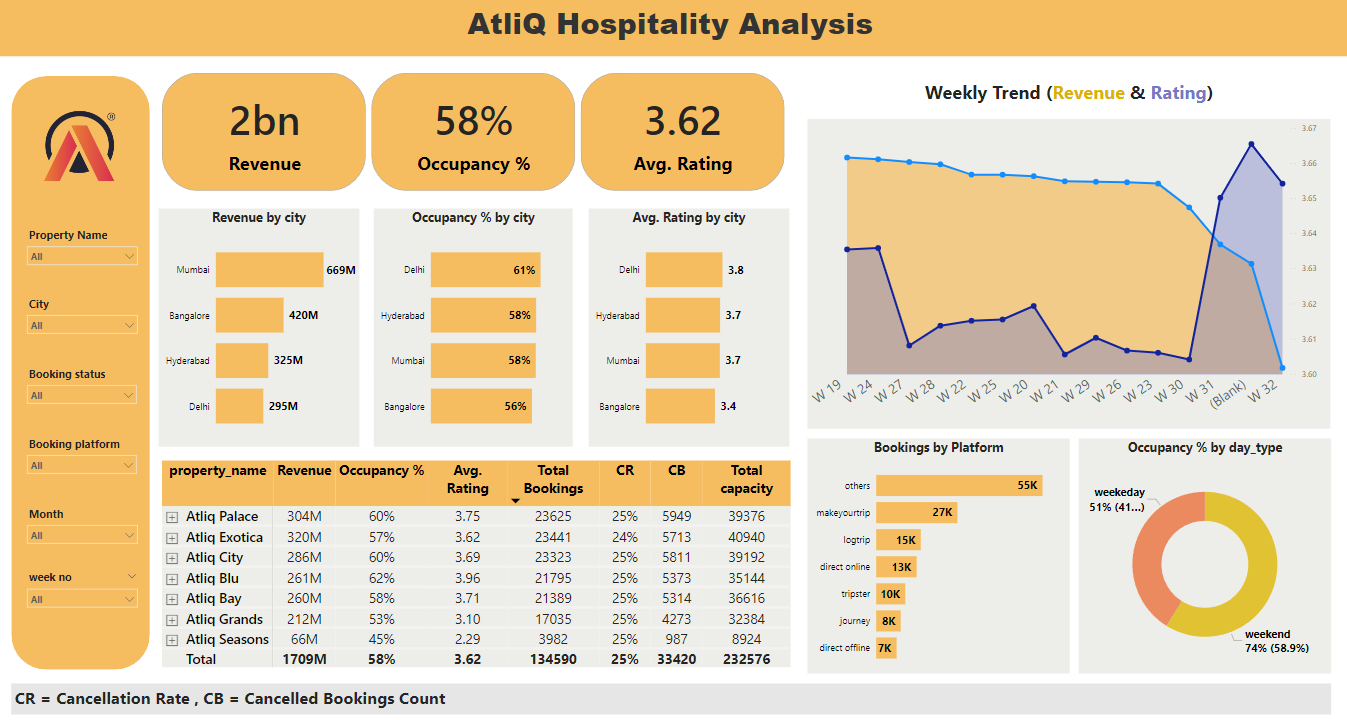

The page's visual inventory and layout, read from the dashboard file:
{"tool":"powerbi","page":{"name":"Page 1","canvas":[1980,1080],"ordinal":0},"visuals":[{"type":"cardVisual","fields":{"Data":["fact_bookings.Revenue","fact_bookings.Occupancy %","fact_bookings.Avg. Rating"]},"box":[233,103.6,924.7,223.8],"z":0},{"type":"barChart","fields":{"Y":["fact_bookings.Revenue"],"Category":["dim_hotels.city"]},"box":[233,327.4,294.1,349.5],"z":1000},{"type":"barChart","fields":{"Y":["fact_bookings.Occupancy %"],"Category":["dim_hotels.city"]},"box":[549.3,327.4,292.2,349.5],"z":2000},{"type":"barChart","fields":{"Y":["fact_bookings.Avg. Rating"],"Category":["dim_hotels.city"]},"box":[863.7,327.4,294.1,349.5],"z":3000},{"type":"pivotTable","fields":{"Rows":["dim_hotels.property_name","dim_hotels.city"],"Values":["fact_bookings.Revenue","fact_bookings.Occupancy %","fact_bookings.Avg. Rating","fact_bookings.Total Bookings","fact_bookings.CR","fact_bookings.Total Cancelled bookings","fact_aggregated_bookings.Total capacity"]},"box":[233,691.7,952.5,316.3],"z":4000},{"type":"areaChart","title":"Weekly Trend (Revenue & Rating)","fields":{"Y":["fact_bookings.Revenue"],"Y2":["fact_bookings.Avg. Rating"],"Category":["dim_date.week no"]},"box":[1185.5,194.2,767.5,455],"z":5000},{"type":"donutChart","fields":{"Category":["dim_date.day_type"],"Y":["fact_bookings.Occupancy %"]},"box":[1583,664,370.5,344.8],"z":6000},{"type":"barChart","title":"Bookings by Platform","fields":{"Category":["fact_bookings.booking_platform"],"Y":["fact_bookings.Total Bookings"]},"box":[1184.9,664,385.2,344.8],"z":7000},{"type":"textbox","box":[1185.5,131.3,767.5,62.9],"z":8000},{"type":"textbox","box":[0,18.5,1980.8,85.1],"z":9000},{"type":"shape","box":[16.6,131.3,203.4,871.1],"z":10000},{"type":"slicer","fields":{"Values":["dim_hotels.property_name"]},"box":[29.6,347.7,183.1,74],"z":11000},{"type":"slicer","fields":{"Values":["dim_hotels.city"]},"box":[29.6,449.4,183.1,72.1],"z":12000},{"type":"slicer","fields":{"Values":["fact_bookings.booking_status"]},"box":[29.6,553,181.2,77.7],"z":13000},{"type":"slicer","fields":{"Values":["fact_bookings.booking_platform"]},"box":[29.6,654.7,181.2,79.5],"z":14000},{"type":"slicer","fields":{"Values":["dim_date.date.Variation.Date Hierarchy.Month"]},"box":[29.6,758.3,183.1,77.7],"z":15000},{"type":"slicer","fields":{"Values":["dim_date.week no"]},"box":[29.6,850.7,183.1,70.3],"z":16000},{"type":"image","box":[51.8,175.7,133.2,116.5],"z":17000},{"type":"textbox","box":[16.5,1023.5,1937,45.9],"z":17001}]}

Visuals, with their boxes in screenshot pixels (x1, y1, x2, y2), scaled from the page's 1980x1080 canvas onto the 1347x720 screenshot:
cardVisual - fact_bookings.Revenue x fact_bookings.Occupancy %: BBox(159, 69, 788, 218)
barChart - fact_bookings.Revenue x dim_hotels.city: BBox(159, 218, 359, 451)
barChart - fact_bookings.Occupancy % x dim_hotels.city: BBox(374, 218, 572, 451)
barChart - fact_bookings.Avg. Rating x dim_hotels.city: BBox(588, 218, 788, 451)
pivotTable - dim_hotels.property_name x dim_hotels.city: BBox(159, 461, 806, 672)
"Weekly Trend (Revenue & Rating)" areaChart: BBox(806, 129, 1329, 433)
donutChart - dim_date.day_type x fact_bookings.Occupancy %: BBox(1077, 443, 1329, 673)
"Bookings by Platform" barChart: BBox(806, 443, 1068, 673)
textbox: BBox(806, 88, 1329, 129)
textbox: BBox(0, 12, 1346, 69)
shape: BBox(11, 88, 150, 668)
slicer - dim_hotels.property_name: BBox(20, 232, 145, 281)
slicer - dim_hotels.city: BBox(20, 300, 145, 348)
slicer - fact_bookings.booking_status: BBox(20, 369, 143, 420)
slicer - fact_bookings.booking_platform: BBox(20, 436, 143, 489)
slicer - dim_date.date.Variation.Date Hierarchy.Month: BBox(20, 506, 145, 557)
slicer - dim_date.week no: BBox(20, 567, 145, 614)
image: BBox(35, 117, 126, 195)
textbox: BBox(11, 682, 1329, 713)
